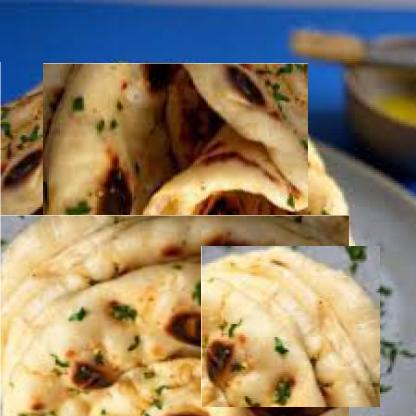naan: (21, 84, 330, 393), (0, 215, 349, 416), (0, 62, 271, 278), (206, 241, 376, 412)
